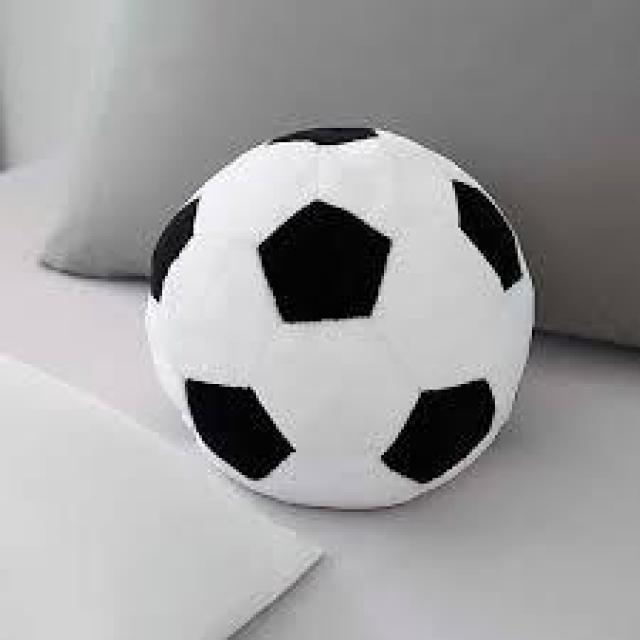Soccer Ball: (151, 125, 532, 504)
